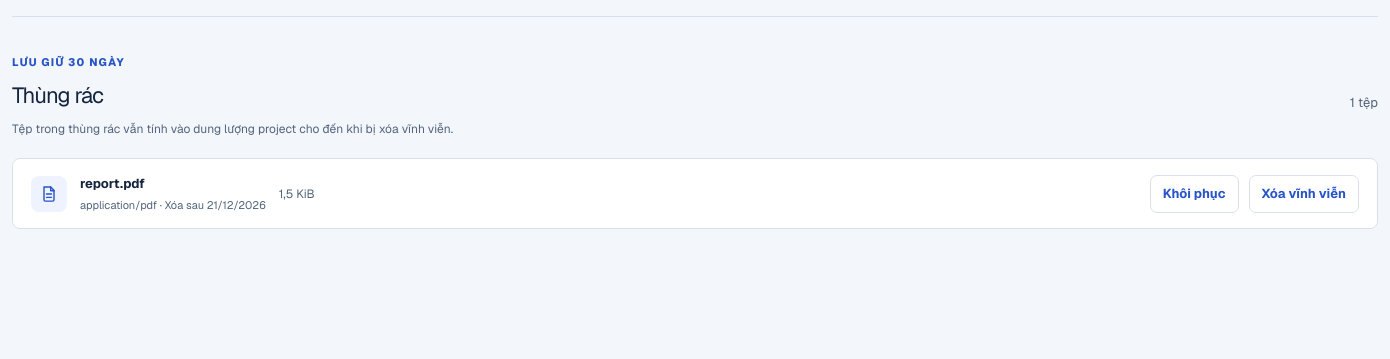
TrashPanel › refreshes a purge claimed for background retry after a 503 response
Expected: the text "report.pdf" is shown, [80,175,145,192]
Click the button with aria-label "Xóa vĩnh viễn report.pdf": (1304, 194) [1248,174,1359,212]
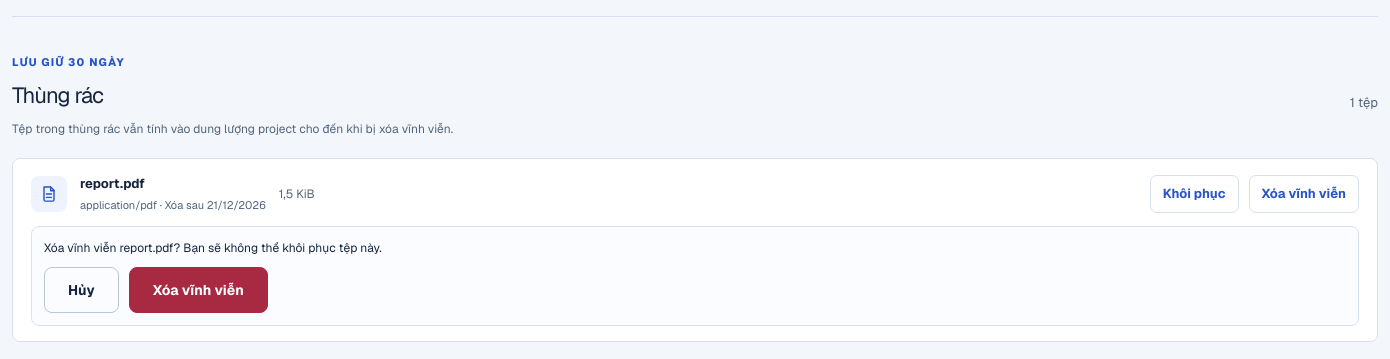
Click the button "Xóa vĩnh viễn" below "? Bạn sẽ không thể khôi phục tệp này.": (198, 290) [129,267,268,313]
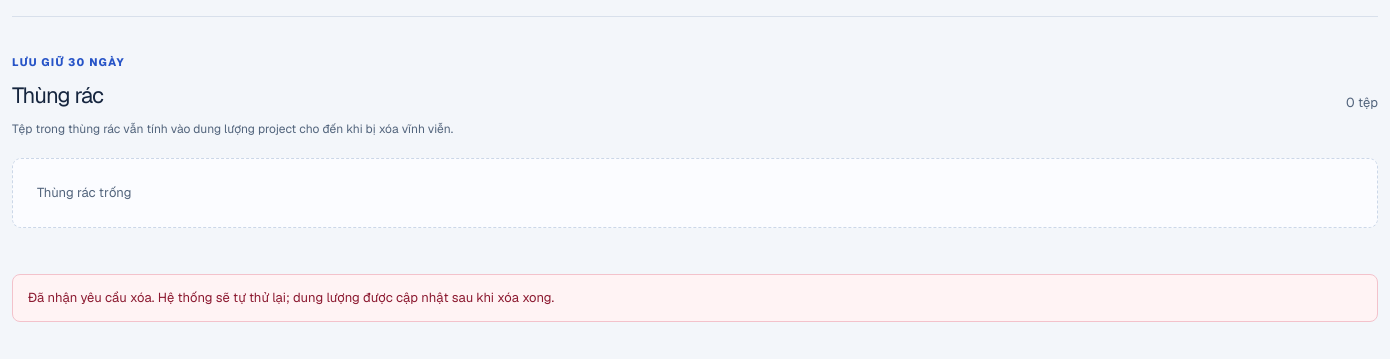
Now the text "Thùng rác trống" is shown, box [12,158,1378,228]
Now the message shows "Hệ thống sẽ tự thử lại", box [28,289,554,306]
